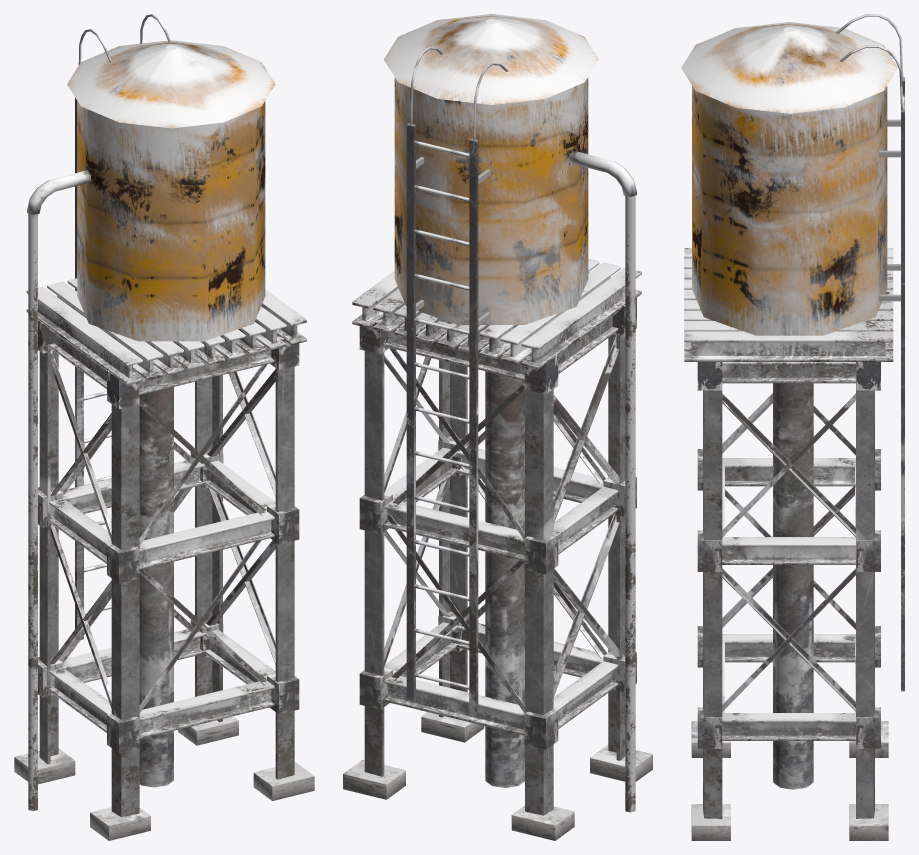
The model's file is watertank.obj.
3 views of the same model, side by side, from view 1: azimuth 30°, elevation 25°; view 2: azimuth 150°, elevation 25°; view 3: azimuth 270°, elevation 25° (orthographic). The views are drawn at different scales.
Visible parts, largest first — view 1: defaultMaterial; view 2: defaultMaterial; view 3: defaultMaterial.
Part boxes in pixels (x1,y1,x2,y2): defaultMaterial: [14, 14, 314, 840]; defaultMaterial: [343, 14, 652, 840]; defaultMaterial: [681, 14, 904, 840].
Bounding box in the file's own units: 0.6829 × 2 × 0.5322.
